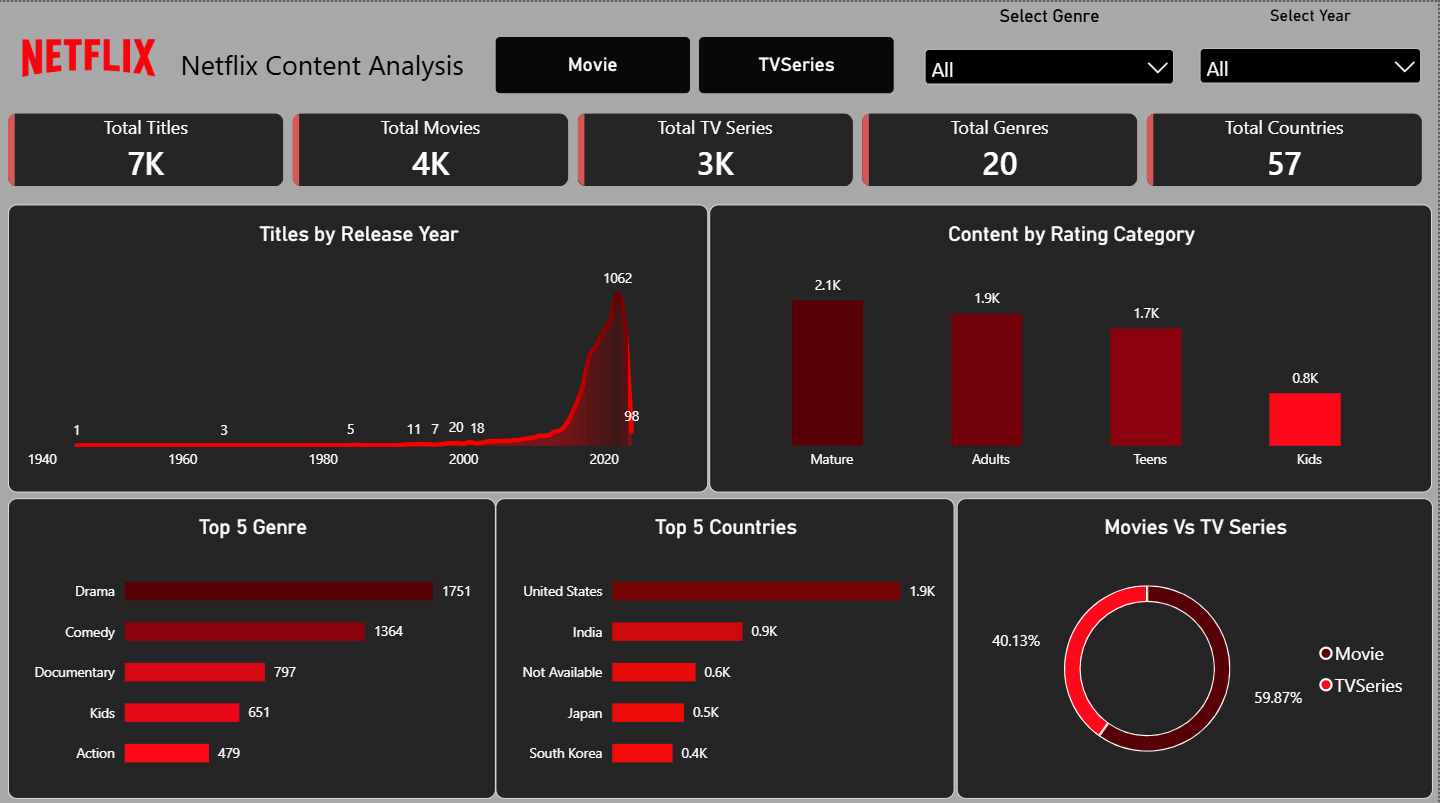

The dashboard page shown, as its layout file describes it:
{"tool":"powerbi","page":{"name":"Page 1","canvas":[1280,720],"ordinal":0},"visuals":[{"type":"cardVisual","fields":{"Data":["Netflix Dataset.Total Titles","Netflix Dataset.Total Movies","Netflix Dataset.Total TV Series","Netflix Dataset.Total Genres","Netflix Dataset.Total Countries"]},"box":[200,77.1,968.6,85.7],"z":0},{"type":"lineChart","title":"Titles by Release Year","fields":{"Y":["Netflix Dataset.Total Titles"],"Category":["Netflix Dataset.Release Year"]},"box":[127.1,165.7,595.7,298.6],"z":1},{"type":"donutChart","title":"Movies Vs TV Series","fields":{"Y":["Netflix Dataset.Total Titles"],"Category":["Netflix Dataset.Type"]},"box":[127.1,474.3,407.1,245.7],"z":2},{"type":"clusteredBarChart","title":"Top 10 Genre","fields":{"Y":["Netflix Dataset.Total Titles"],"Category":["Netflix Dataset.Genre"]},"box":[684.3,177.1,595.7,255.7],"z":3},{"type":"clusteredColumnChart","title":"Content by Rating Category","fields":{"Y":["Netflix Dataset.Total Titles"],"Category":["Netflix Dataset.Rating Category"]},"box":[640,464.3,596,256],"z":4},{"type":"image","box":[0,0,144.3,64.3],"z":5},{"type":"advancedSlicerVisual","fields":{"Values":["Netflix Dataset.Type"]},"box":[520,0,277.1,62.9],"z":6},{"type":"slicer","fields":{"Values":["Netflix Dataset.Genre"]},"box":[0,95.7,144.3,498.6],"z":7},{"type":"slicer","fields":{"Values":["Date Table.Year"]},"box":[1015.7,0,247.1,77.1],"z":8},{"type":"textbox","box":[144.3,14.3,260,32.9],"z":9}]}

Visuals, with their boxes in screenshot pixels (x1, y1, x2, y2), scaled from the page's 1280x720 canvas onto the 1440x803 screenshot:
cardVisual - Netflix Dataset.Total Titles x Netflix Dataset.Total Movies: pyautogui.locateOnScreen(225, 86, 1315, 182)
"Titles by Release Year" lineChart: pyautogui.locateOnScreen(143, 185, 813, 518)
"Movies Vs TV Series" donutChart: pyautogui.locateOnScreen(143, 529, 601, 802)
"Top 10 Genre" clusteredBarChart: pyautogui.locateOnScreen(770, 198, 1439, 483)
"Content by Rating Category" clusteredColumnChart: pyautogui.locateOnScreen(720, 518, 1390, 802)
image: pyautogui.locateOnScreen(0, 0, 162, 72)
advancedSlicerVisual - Netflix Dataset.Type: pyautogui.locateOnScreen(585, 0, 897, 70)
slicer - Netflix Dataset.Genre: pyautogui.locateOnScreen(0, 107, 162, 663)
slicer - Date Table.Year: pyautogui.locateOnScreen(1143, 0, 1421, 86)
textbox: pyautogui.locateOnScreen(162, 16, 455, 53)
